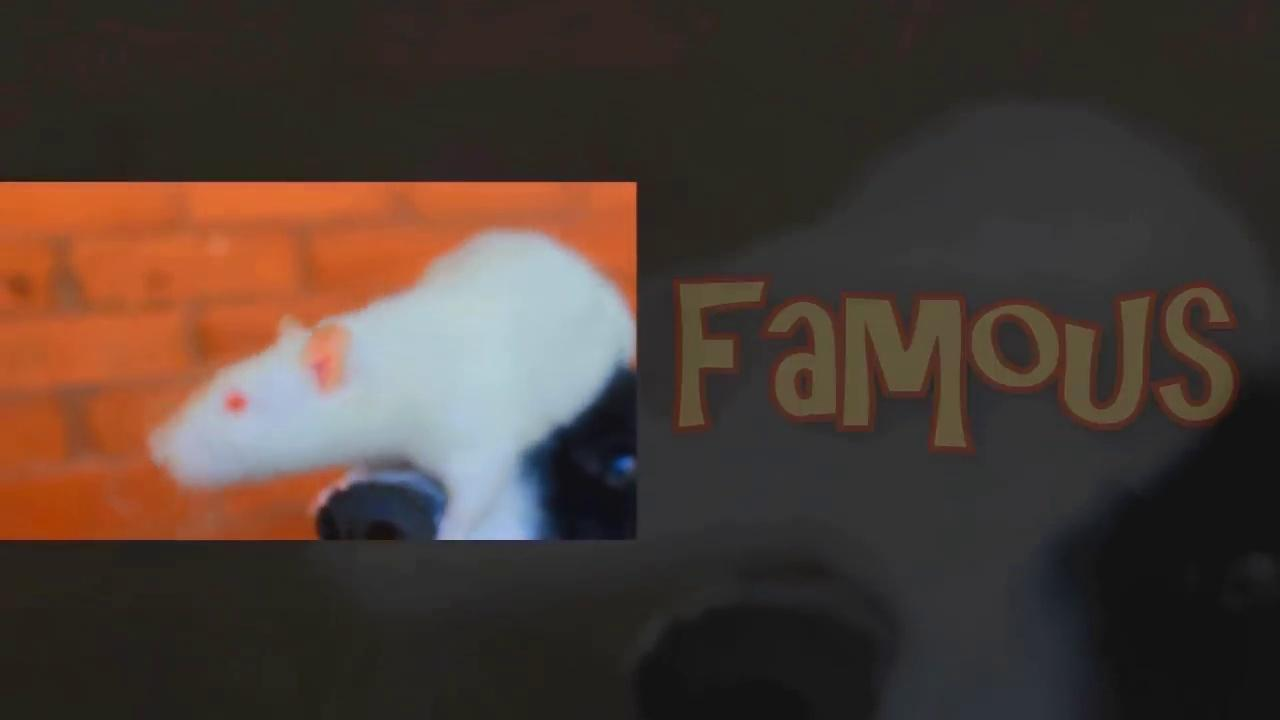rat: (146, 230, 636, 539)
